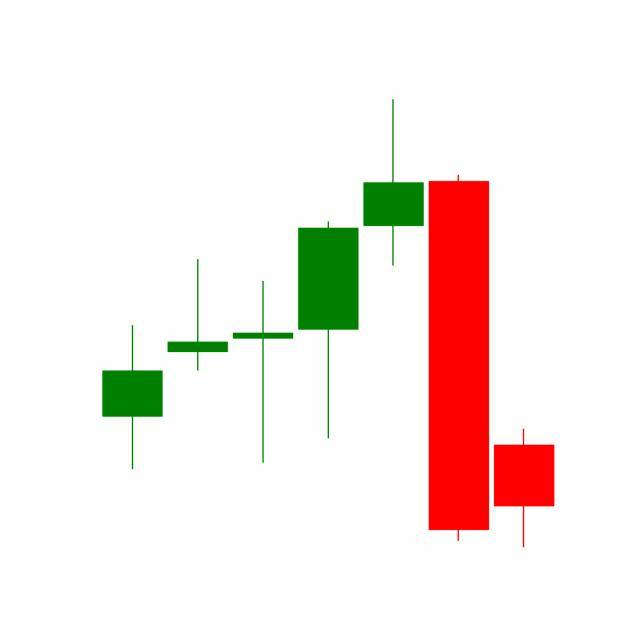Evening Star: (295, 99, 492, 546)
